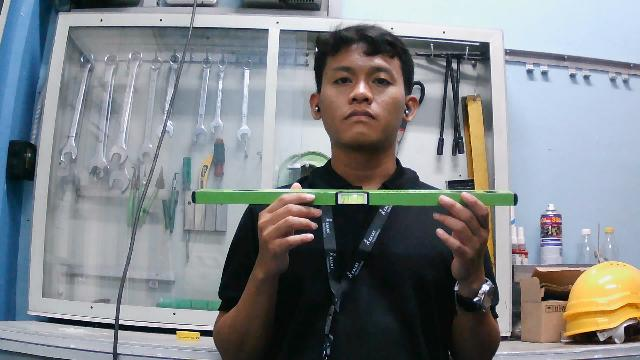water_pass: (191, 182, 519, 212)
